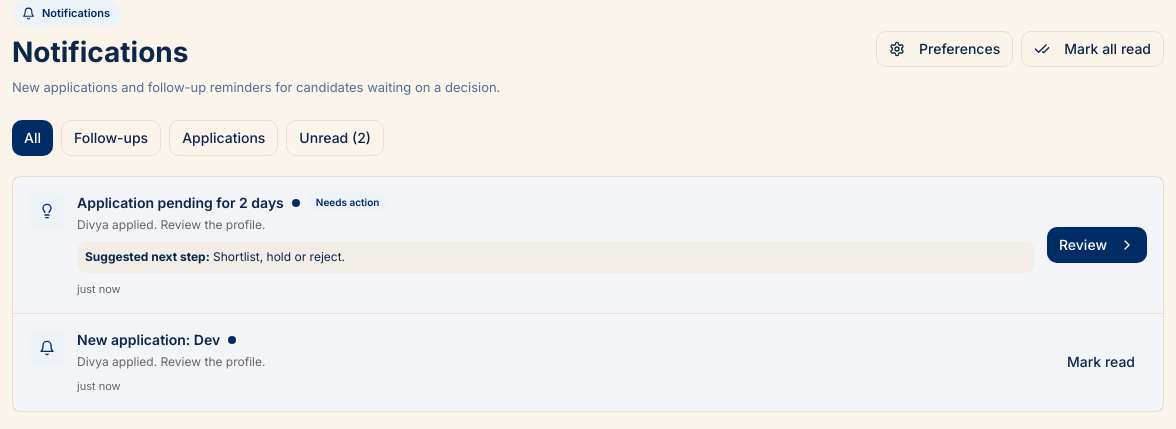
Test: Follow-up notifications › filters follow-ups and marks all read
Later steps or results of the test are not shown.
Expected: the text "New application: Dev" is shown, [77,330,220,350]
Click the tab "Follow-ups" at x=111, y=138, box [61,120,161,156]
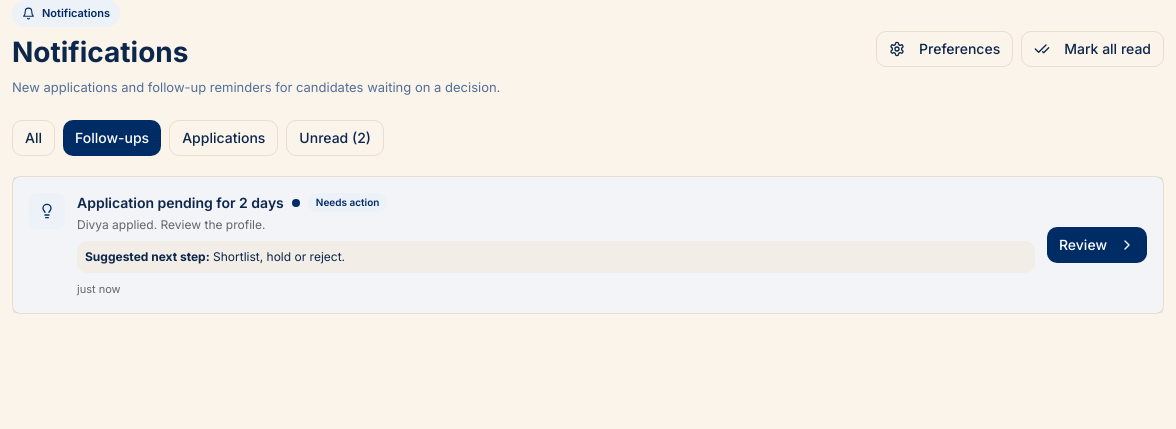
Now the text "New application: Dev" is gone
